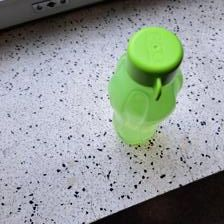bottle: (107, 24, 185, 147)
